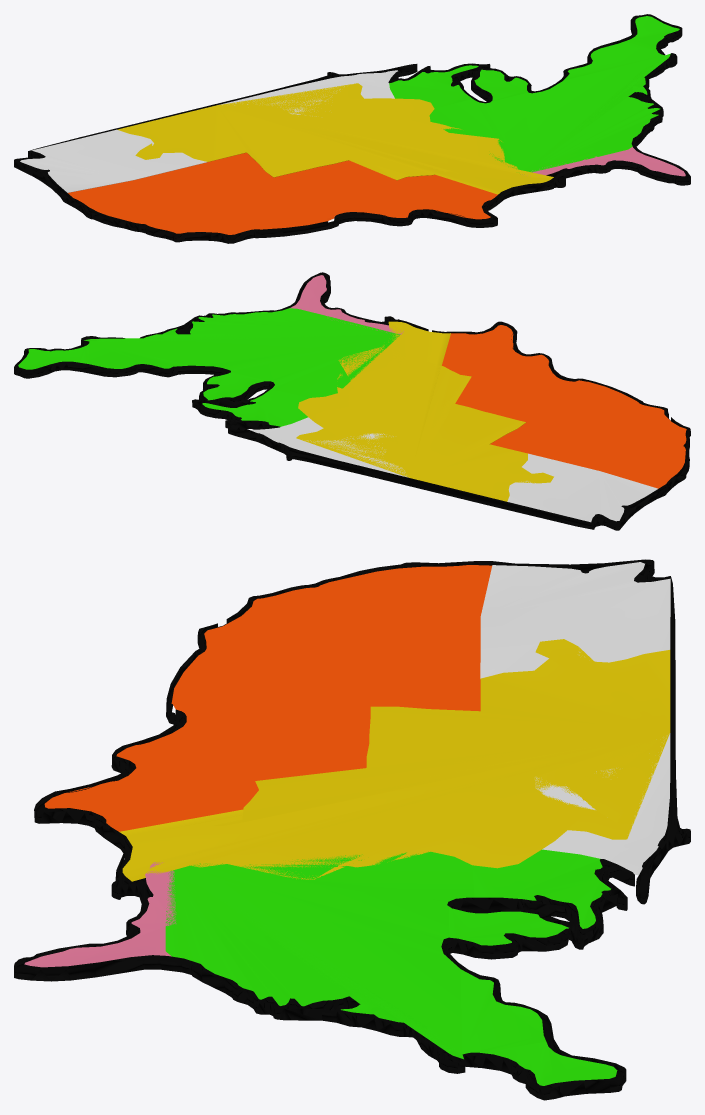
File: Map LAC12Final.fbx
The picture shows the model from 3 angles, top to bottom: view 1: azimuth 30°, elevation 25°; view 2: azimuth 150°, elevation 25°; view 3: azimuth 270°, elevation 25°; orthographic projection. The views are drawn at different scales.
Visible parts, largest first — view 1: Cube; view 2: Cube; view 3: Cube.
Part boxes in pixels (left/top/right/bottom): Cube: left=14, top=14, right=690, bottom=243; Cube: left=14, top=272, right=690, bottom=530; Cube: left=14, top=559, right=690, bottom=1100.
Size of the model in its own units: 1293 by 14.09 by 699.
